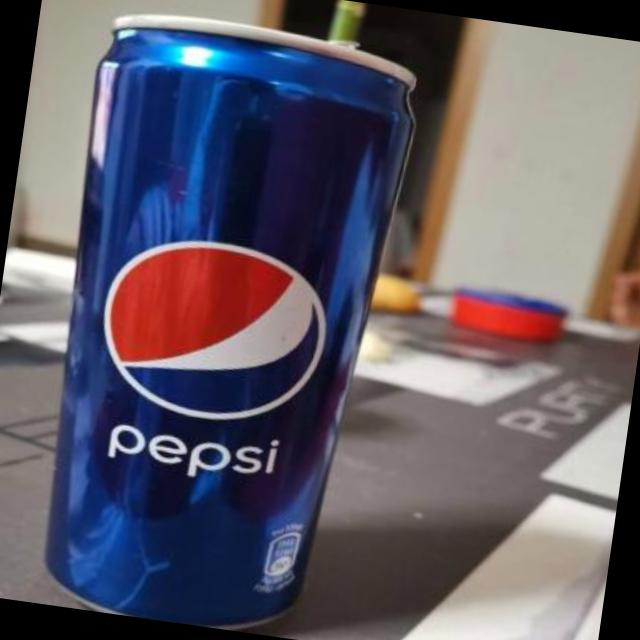metal: (44, 14, 412, 628)
